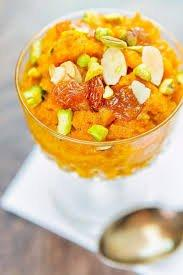Gajar ka halwa: (13, 5, 183, 175)
